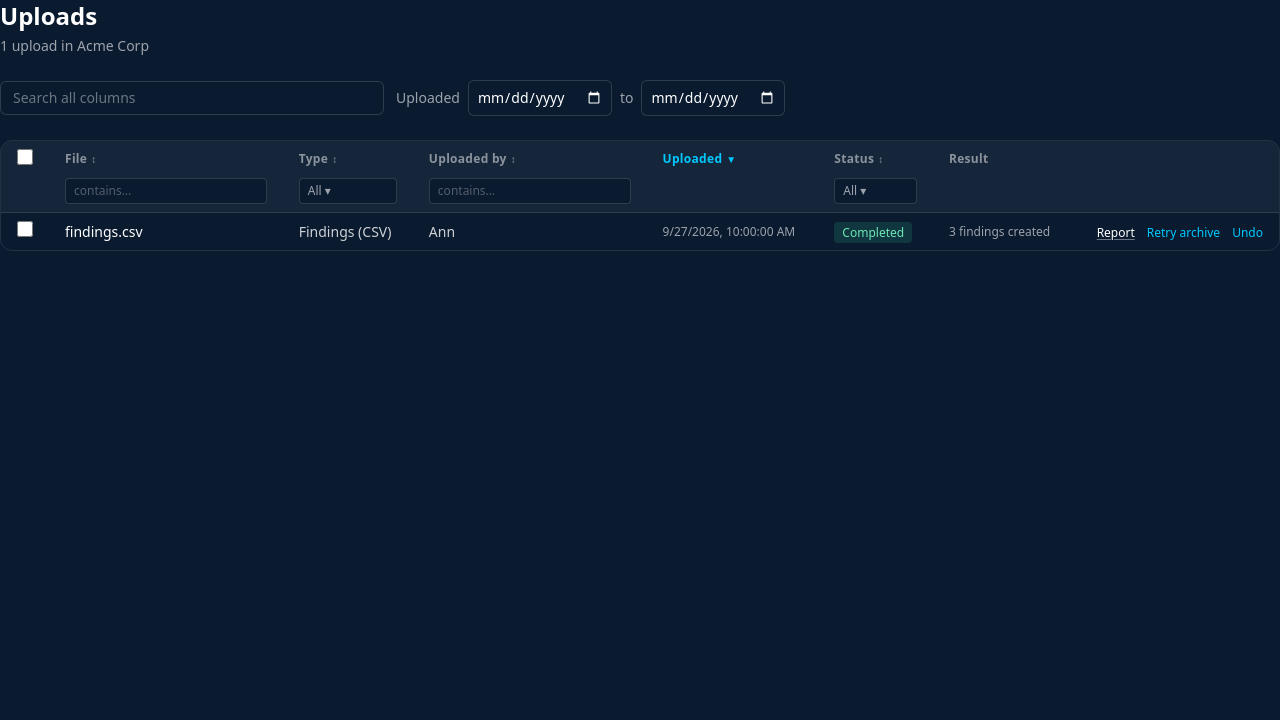
Test case: Uploads page › shows only Archiving… while Retry archive runs
Step 1. Click the button with aria-label "Retry archive findings.csv" → click(1184, 232), box [1147,224,1220,240]
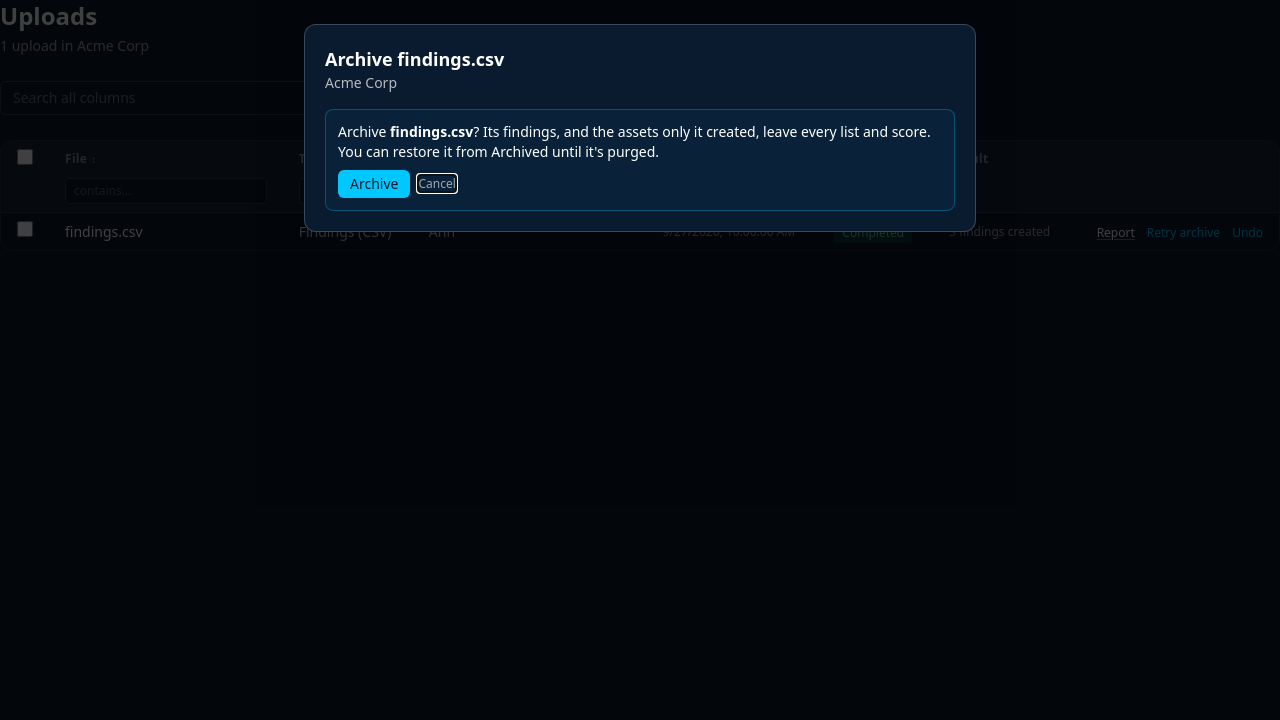
Step 2. Click the button "Archive" → click(374, 184), box [338,170,410,198]
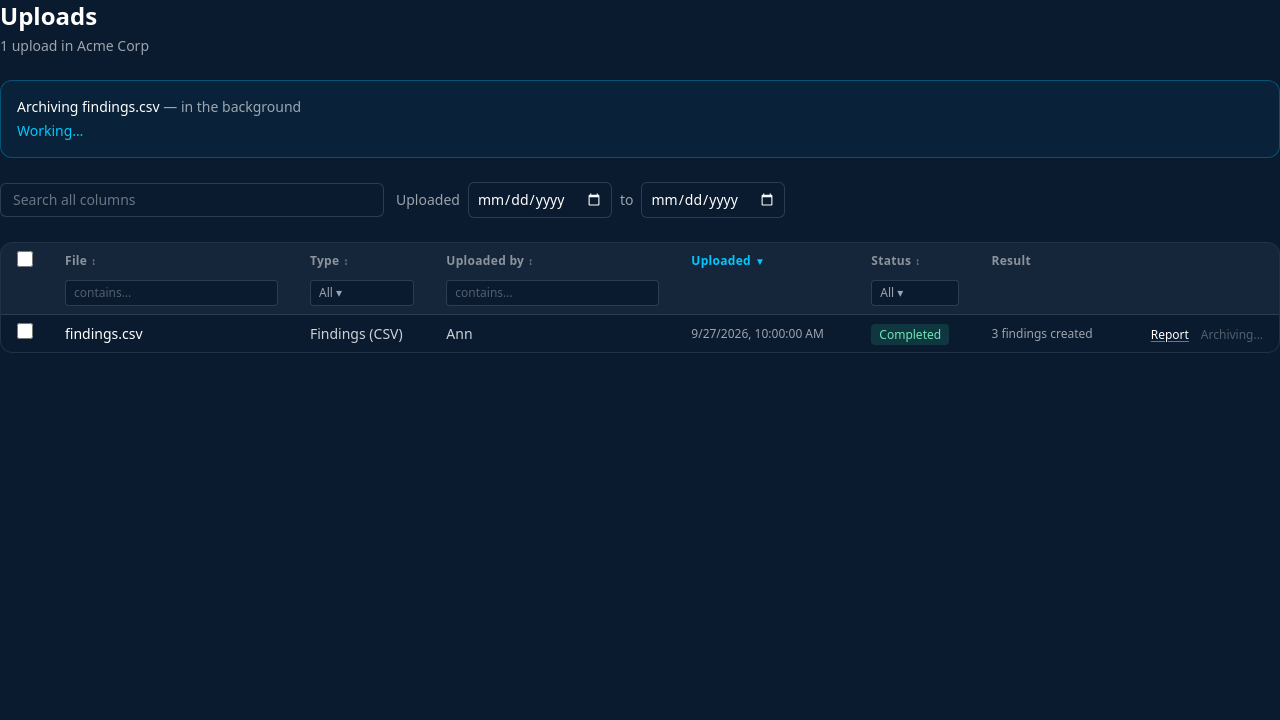
Check: the button with aria-label "Archiving findings.csv" is disabled, box [1201,326,1263,342]
Check: the button "Undo" is gone
